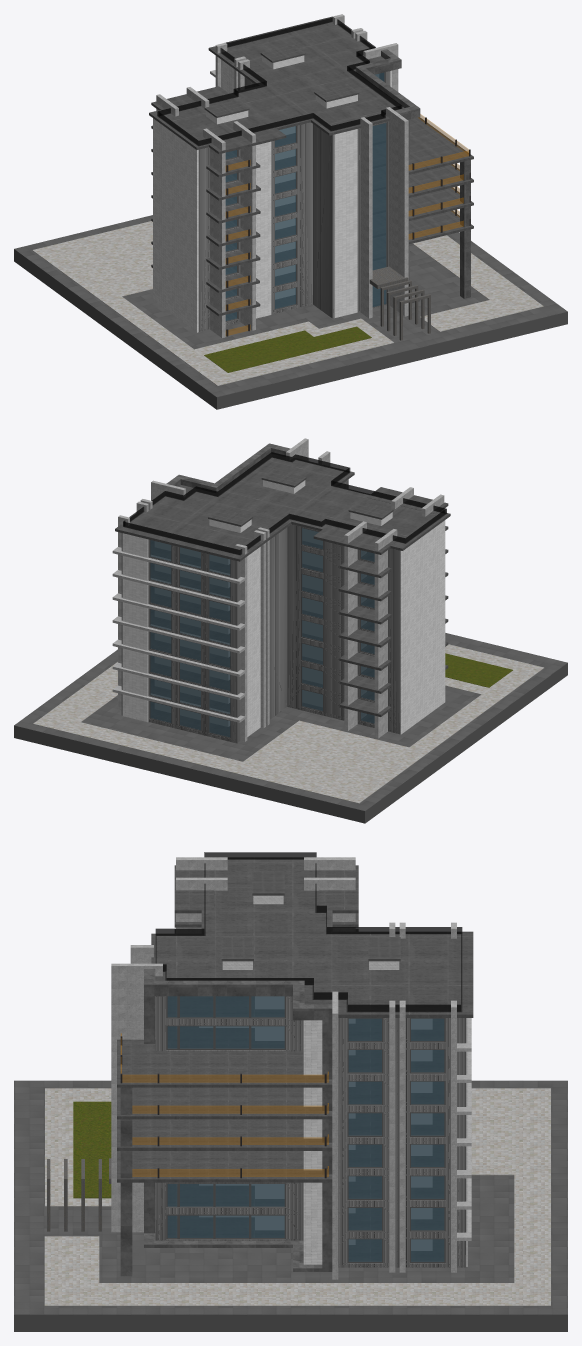
The model's file is office.glb.
3 views of the same model, one above another, from view 1: azimuth 30°, elevation 25°; view 2: azimuth 150°, elevation 25°; view 3: azimuth 270°, elevation 25° (orthographic). The views are drawn at different scales.
Visible parts, largest first — view 1: Line007, Box044, Shape009_Wall Paint_0, Line001_01 - Default_0, Box070, Box045, Box072, Box005, Line013, Line008, Box011, Box071 (+18 smaller); view 2: Line001_01 - Default_0, Line007, Shape009_Wall Paint_0, Box044, Box070, Box045, Line006, Box074, Line013, Box075, Box021, Box022 (+26 smaller); view 3: Box044, Line007, Shape009_Wall Paint_0, Line001_01 - Default_0, Box045, Box008, Box001_Wall Paint_0, Box002_Wall Paint_0, Box003_Wall Paint_0, Box004_Wall Paint_0, Box005, Line013 (+57 smaller).
Boxes of the visible parts, x1,y1,x2,y2 form: Line007: [32, 221, 543, 385]; Box044: [14, 215, 567, 397]; Shape009_Wall Paint_0: [149, 18, 403, 149]; Line001_01 - Default_0: [198, 71, 409, 331]; Box070: [153, 118, 198, 332]; Box045: [14, 249, 567, 409]; Box072: [334, 129, 357, 317]; Box005: [386, 107, 408, 316]; Line013: [157, 16, 402, 146]; Line008: [204, 326, 371, 372]; Box011: [203, 128, 225, 337]; Box071: [256, 141, 271, 318]; Line001_01 - Default_0: [121, 479, 400, 743]; Line007: [33, 644, 543, 803]; Shape009_Wall Paint_0: [115, 454, 450, 561]; Box044: [14, 633, 567, 811]; Box070: [400, 520, 445, 734]; Box045: [14, 663, 567, 823]; Line006: [155, 528, 322, 726]; Box074: [122, 533, 148, 722]; Line013: [123, 452, 446, 555]; Box075: [247, 547, 260, 736]; Box021: [374, 529, 397, 738]; Box022: [344, 521, 366, 730]; Box044: [14, 1080, 567, 1315]; Line007: [44, 1088, 550, 1305]; Shape009_Wall Paint_0: [151, 857, 473, 1017]; Line001_01 - Default_0: [155, 996, 466, 1267]; Box045: [14, 1315, 567, 1331]; Box008: [144, 969, 332, 1271]; Box001_Wall Paint_0: [117, 1039, 332, 1087]; Box002_Wall Paint_0: [117, 1087, 332, 1119]; Box003_Wall Paint_0: [117, 1119, 332, 1150]; Box004_Wall Paint_0: [117, 1151, 332, 1182]; Box005: [111, 963, 162, 1232]; Line013: [155, 852, 462, 1012].
Size of the model in its own units: 47.67 by 27.02 by 47.69.
Materials: 17 (10 with a texture image).
